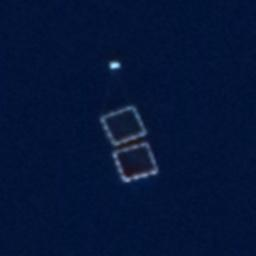square_solid: (109, 137, 161, 185), (97, 103, 152, 148)
